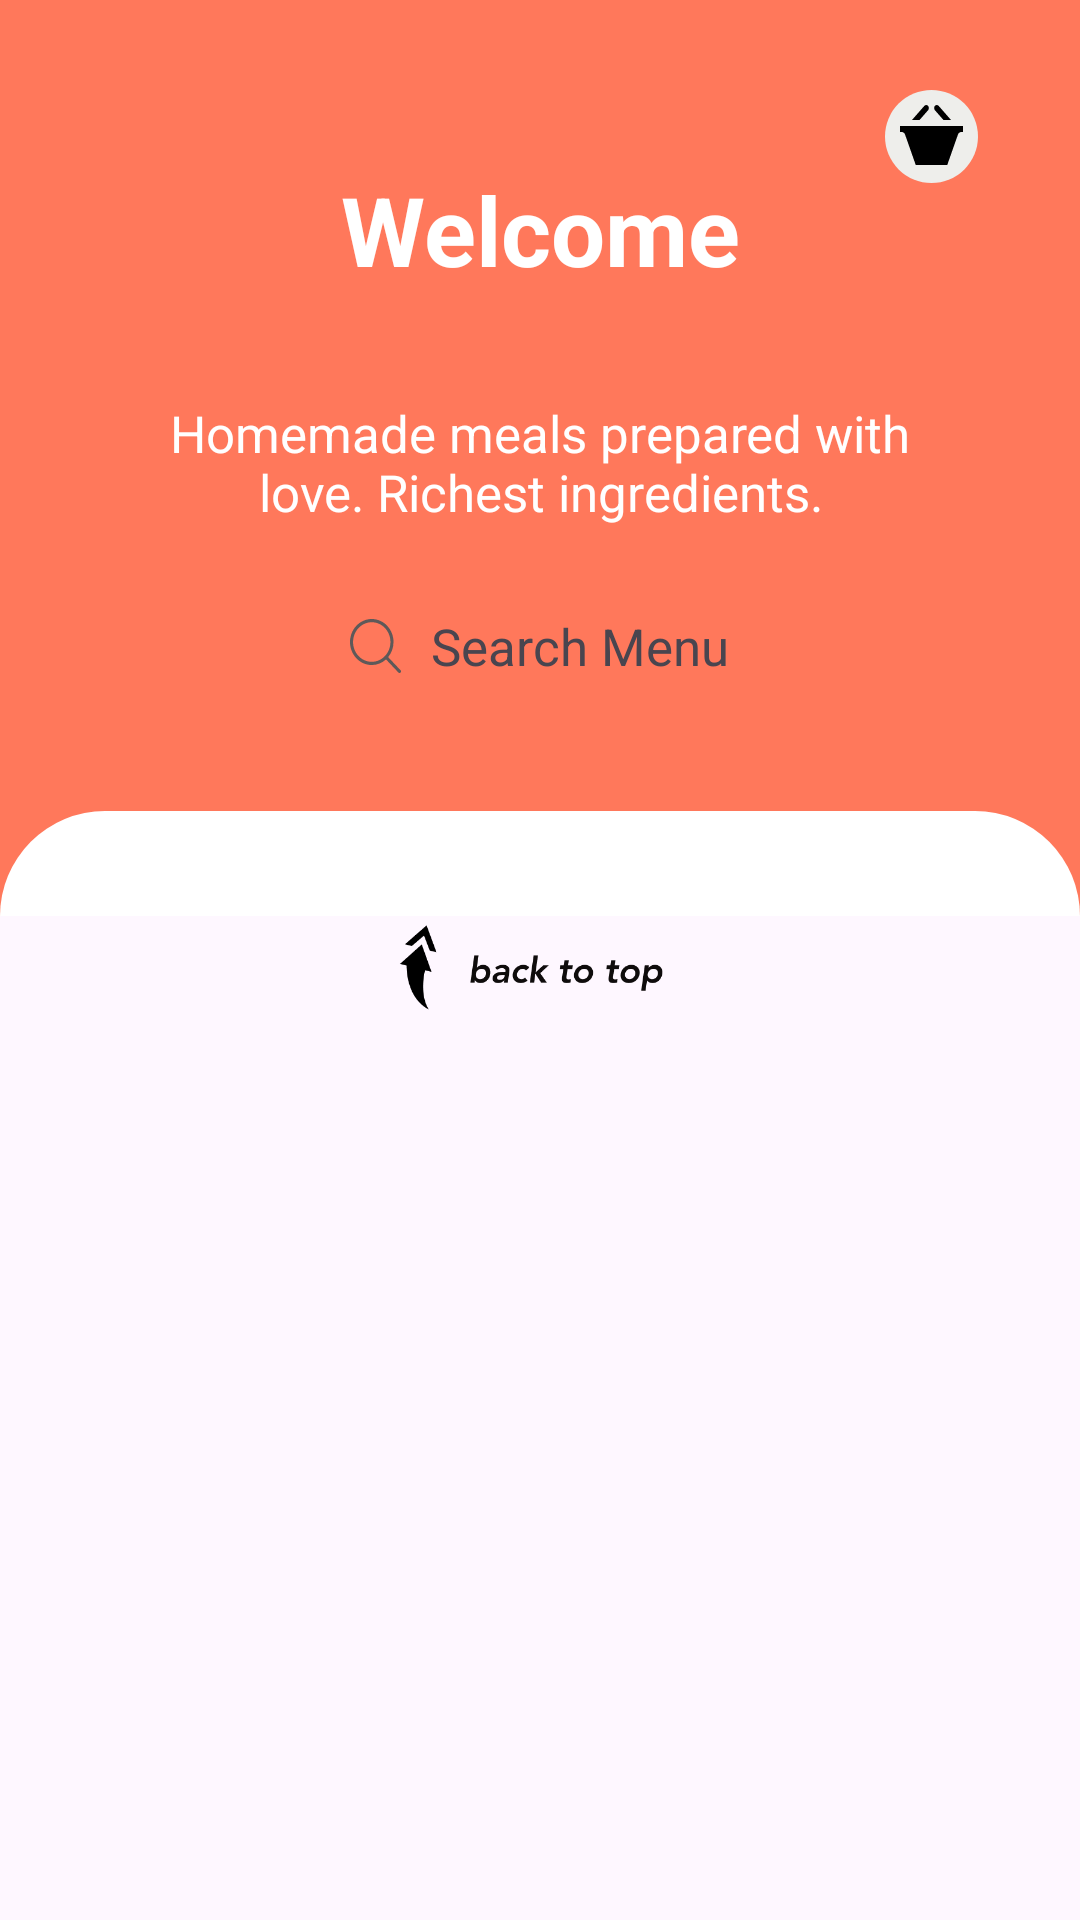

Named icons in this screenshot (1080 × 1920) and their centers, [x,y]:
basket: [931,136]
